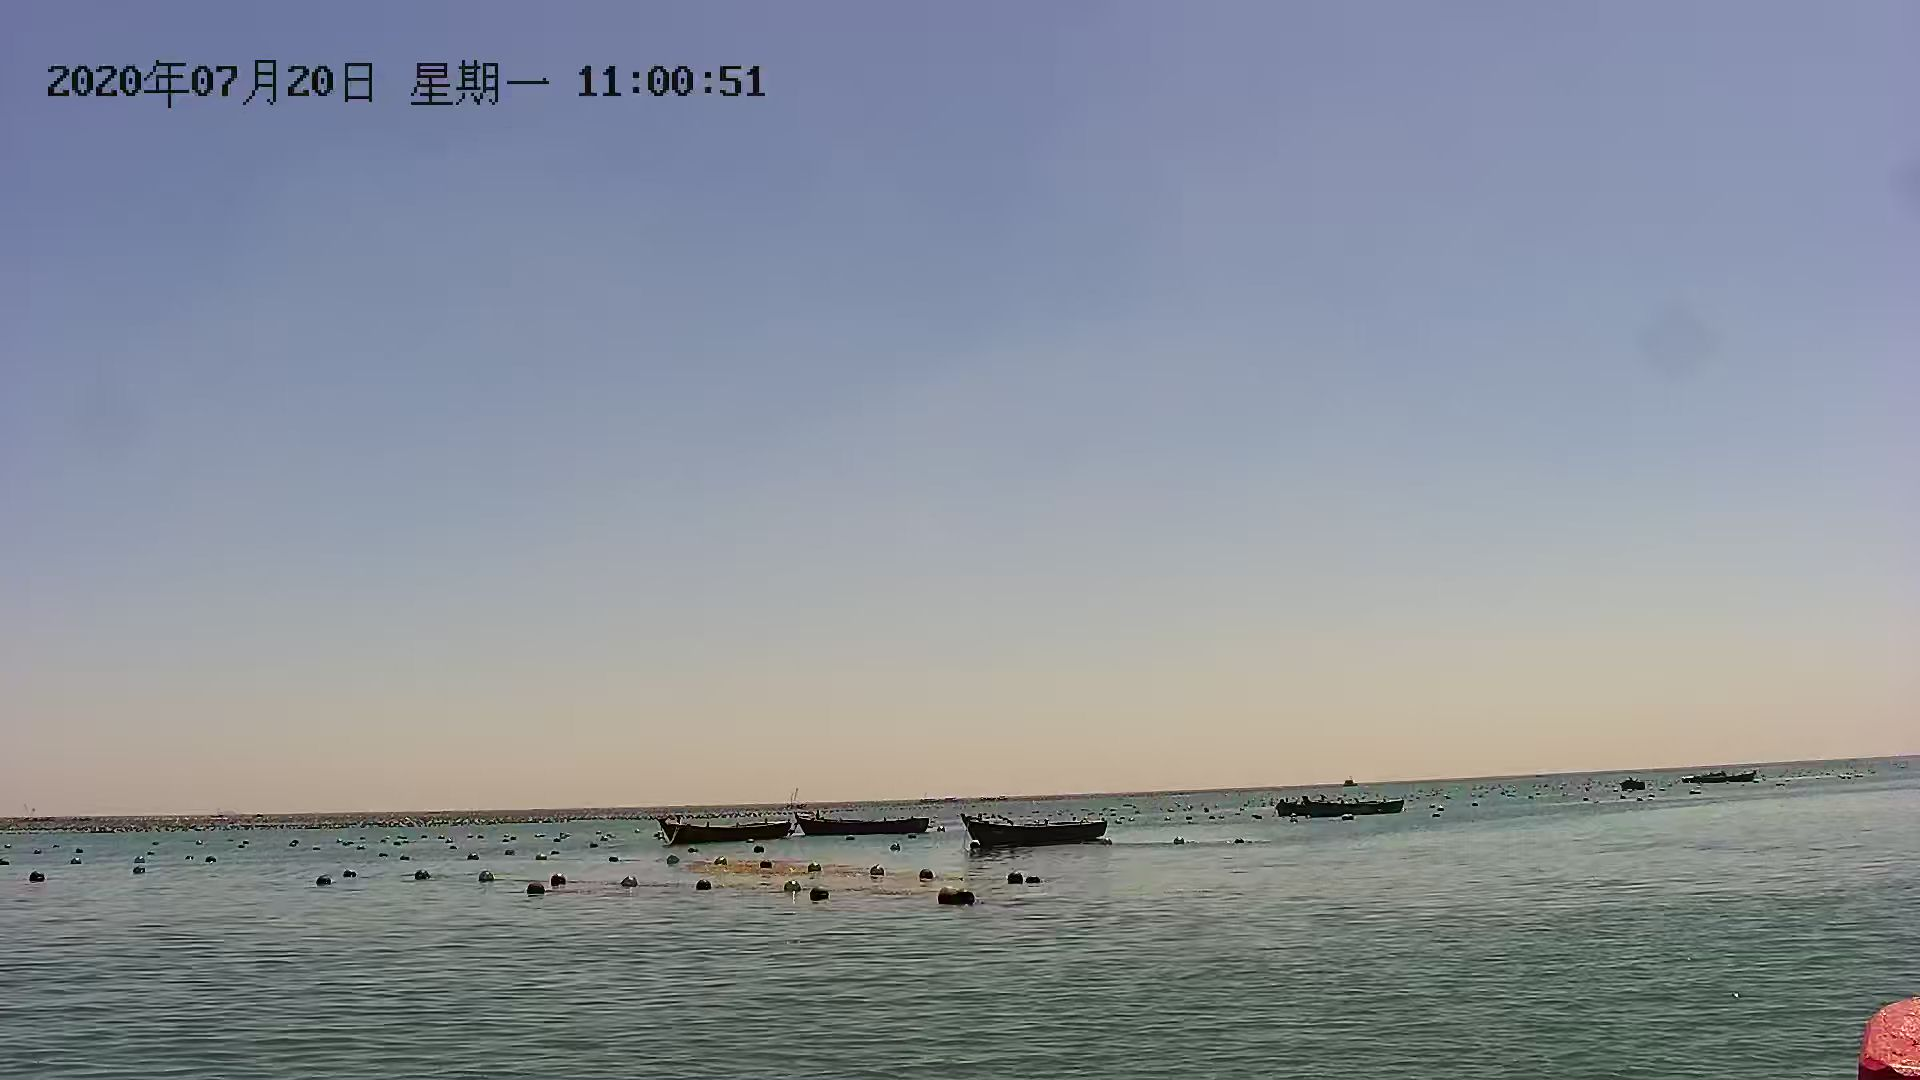ball: (928, 882, 963, 911), (1001, 862, 1029, 891), (806, 884, 833, 906), (473, 870, 502, 891), (128, 858, 152, 884), (407, 865, 434, 887), (547, 873, 572, 895), (24, 866, 47, 887), (310, 873, 335, 891), (781, 878, 807, 895), (521, 884, 549, 898), (694, 876, 712, 895)
boat: (961, 810, 1109, 849), (655, 810, 791, 851), (791, 808, 934, 835), (1278, 793, 1402, 818), (1688, 767, 1759, 787)
